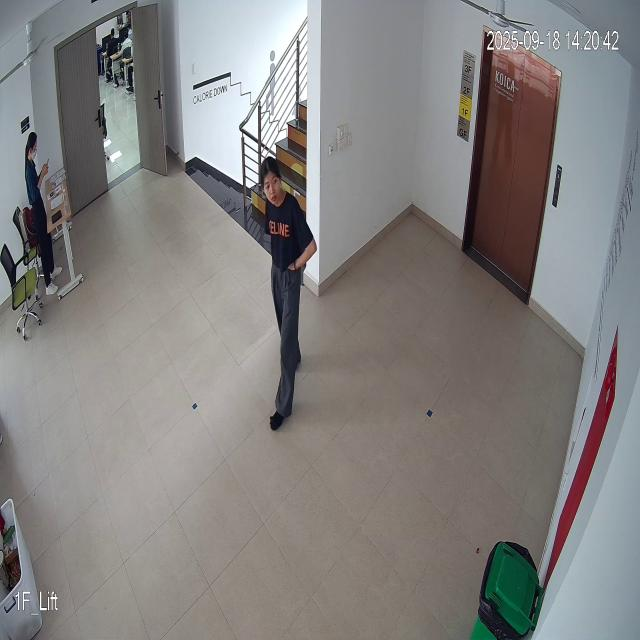face: (258, 157, 284, 210)
